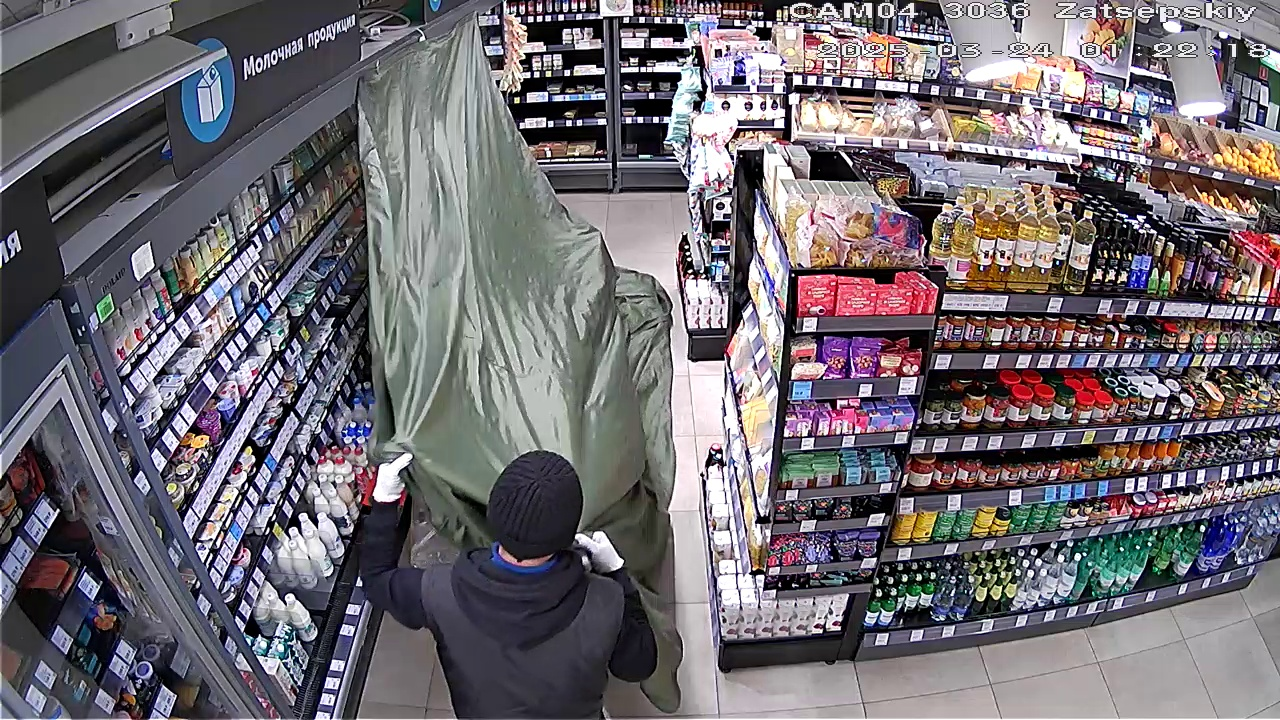Human: (348, 456, 652, 716)
dome: (357, 45, 695, 712)
